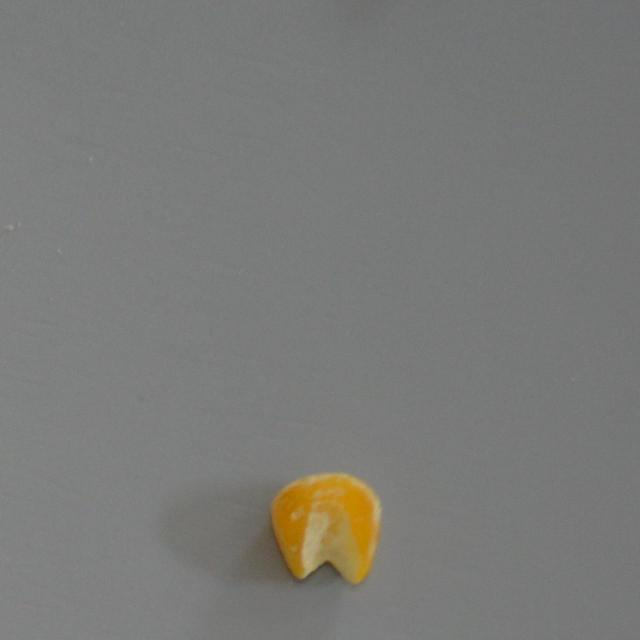pelicula: (269, 472, 381, 585)
